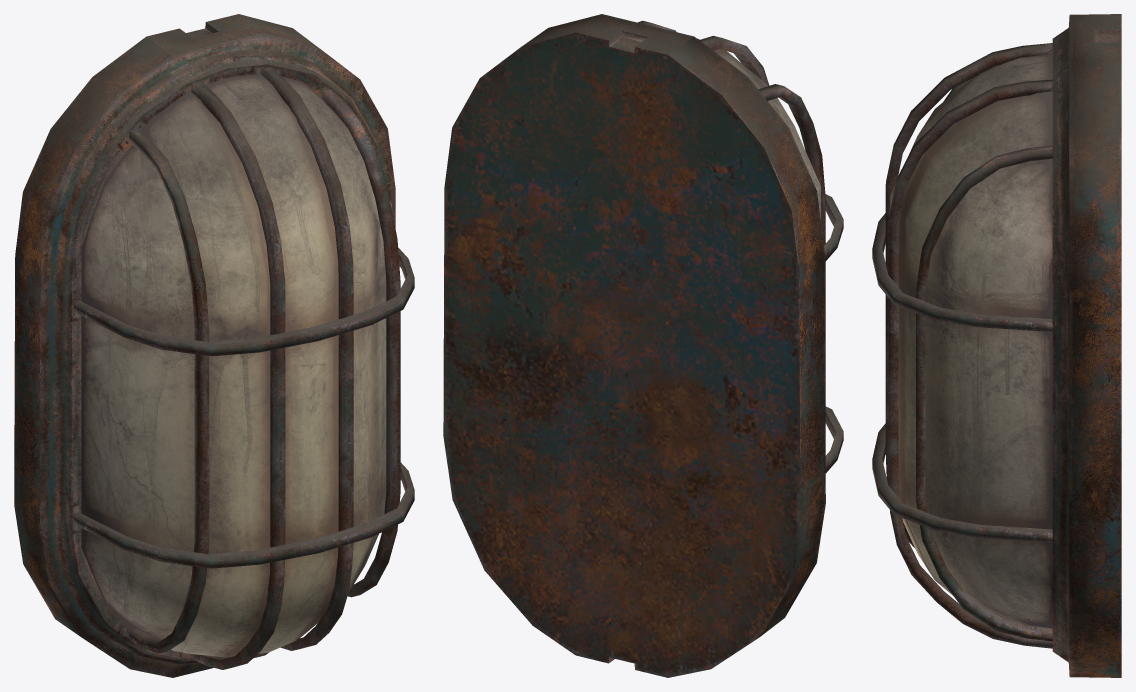
Rendered from wall_light_12.fbx.
3 views of the same model, side by side, from view 1: azimuth 30°, elevation 25°; view 2: azimuth 150°, elevation 25°; view 3: azimuth 270°, elevation 25° (orthographic).
Visible parts, largest first — view 1: wall_light_12; view 2: wall_light_12; view 3: wall_light_12.
Part boxes in pixels (<box>): wall_light_12: <box>14,14,414,677</box>; wall_light_12: <box>443,14,843,677</box>; wall_light_12: <box>872,14,1121,677</box>.
Bounding box in the file's own units: 5.78 × 9.65 × 3.53.
Materials: 2 (2 with a texture image).
